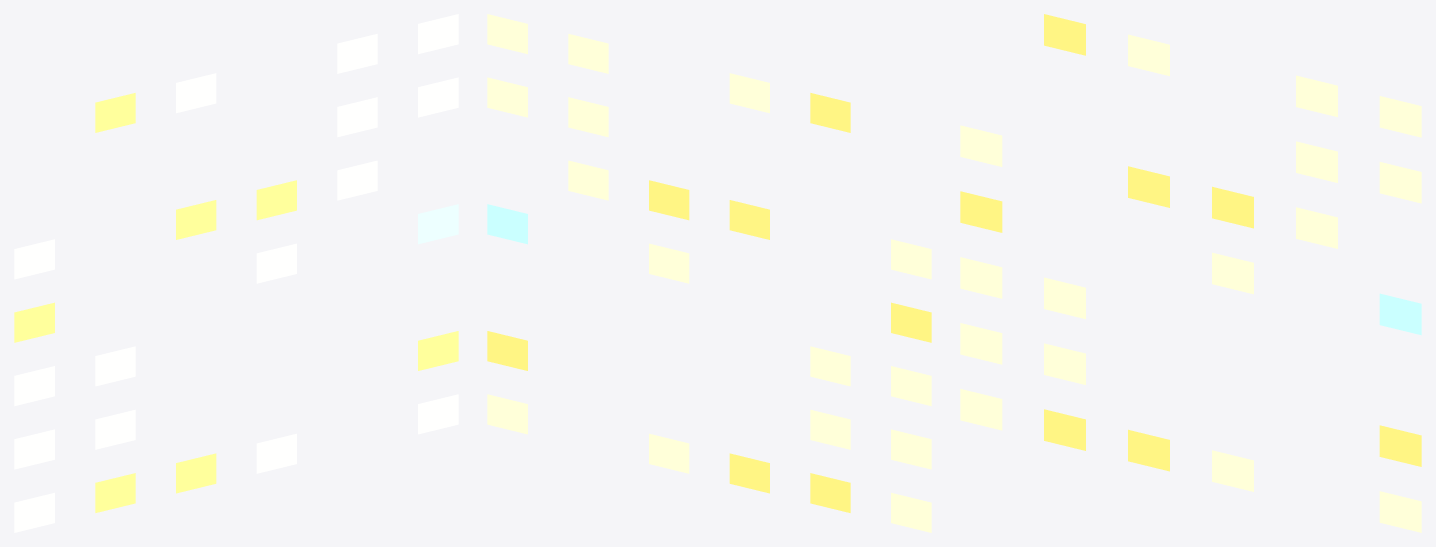
The model's file is window-lights-8.glb.
3 views of the same model, side by side, from view 1: azimuth 30°, elevation 25°; view 2: azimuth 150°, elevation 25°; view 3: azimuth 330°, elevation 25° (orthographic). The views are drawn at different scales.
Parts seen in each view (by area): view 1: window warm, window amber, window tv; view 2: window warm, window amber, window tv; view 3: window warm, window amber, window tv.
Part boxes in pixels (bbox=[...]): window warm: bbox=[14, 14, 458, 532]; window amber: bbox=[14, 93, 458, 512]; window tv: bbox=[418, 204, 458, 244]; window warm: bbox=[487, 14, 931, 532]; window amber: bbox=[487, 93, 931, 512]; window tv: bbox=[487, 204, 527, 244]; window warm: bbox=[960, 34, 1421, 532]; window amber: bbox=[960, 14, 1421, 471]; window tv: bbox=[1379, 293, 1421, 335].
Bounding box in the file's own units: 0.9167 × 0.81 × 0.
